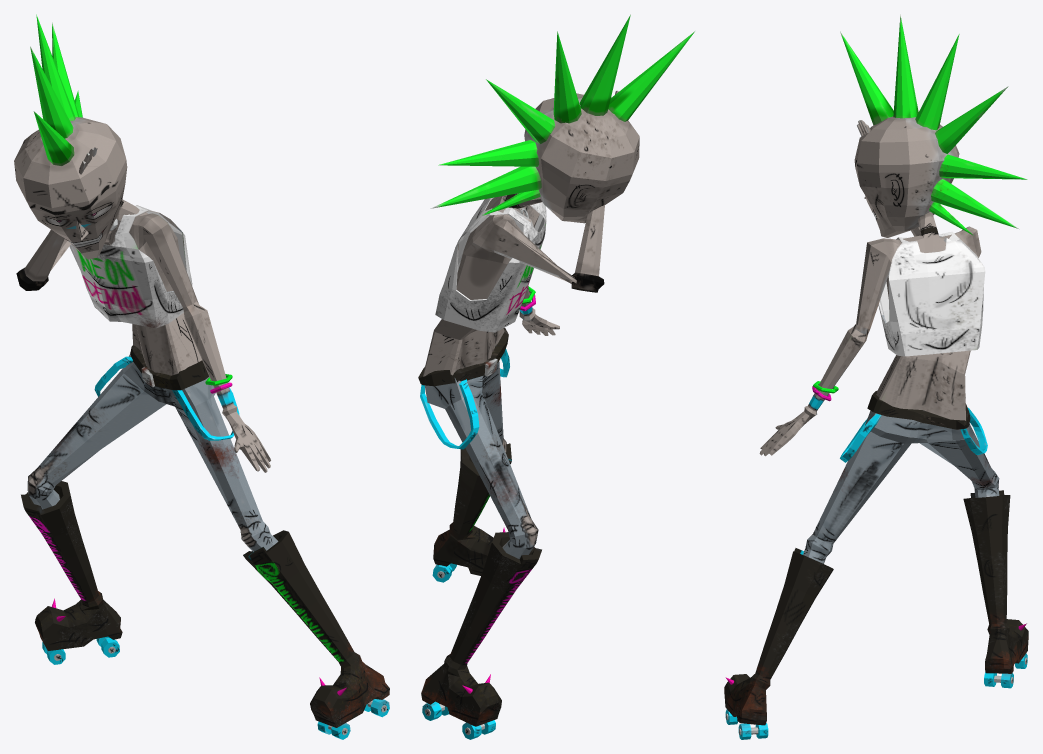
The model's file is punkAnimation_000035.obj.
The picture shows the model from 3 angles, left to right: view 1: azimuth 30°, elevation 25°; view 2: azimuth 150°, elevation 25°; view 3: azimuth 270°, elevation 25°; orthographic projection. The views are drawn at different scales.
Parts seen in each view (by area): view 1: Cube.004_Cube.003; view 2: Cube.004_Cube.003; view 3: Cube.004_Cube.003.
Boxes of the visible parts, x1,y1,x2,y2 form: Cube.004_Cube.003: [14, 14, 389, 739]; Cube.004_Cube.003: [418, 14, 694, 739]; Cube.004_Cube.003: [724, 14, 1028, 739].
Bounding box in the file's own units: 3.13 × 6.72 × 3.01.
